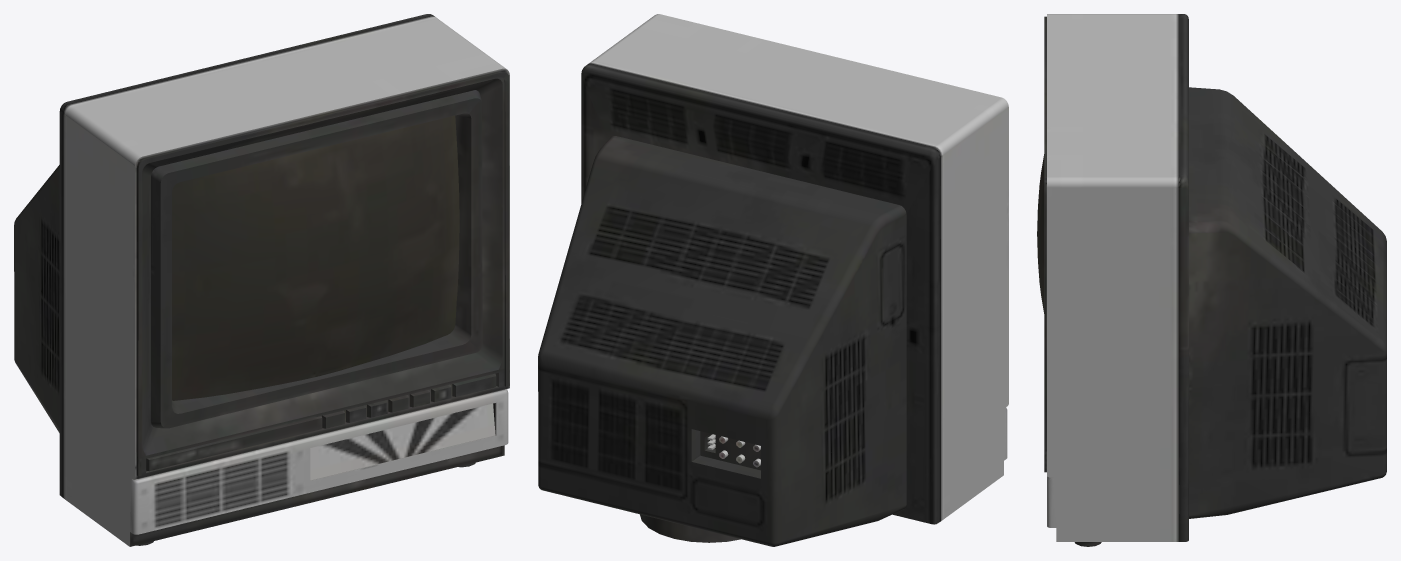
Rendered from television_02.glb.
3 renders of one model, left to right at view 1: azimuth 30°, elevation 25°; view 2: azimuth 150°, elevation 25°; view 3: azimuth 270°, elevation 25°, orthographic. The views are drawn at different scales.
Visible parts, largest first — view 1: television_02; view 2: television_02; view 3: television_02.
Part boxes in pixels (x1,y1,x2,y2): television_02: (14, 14, 509, 546); television_02: (538, 14, 1008, 546); television_02: (1037, 14, 1386, 546).
Size of the model in its own units: 0.3998 by 0.4114 by 0.3502.
Materials: 1 (1 with a texture image).
